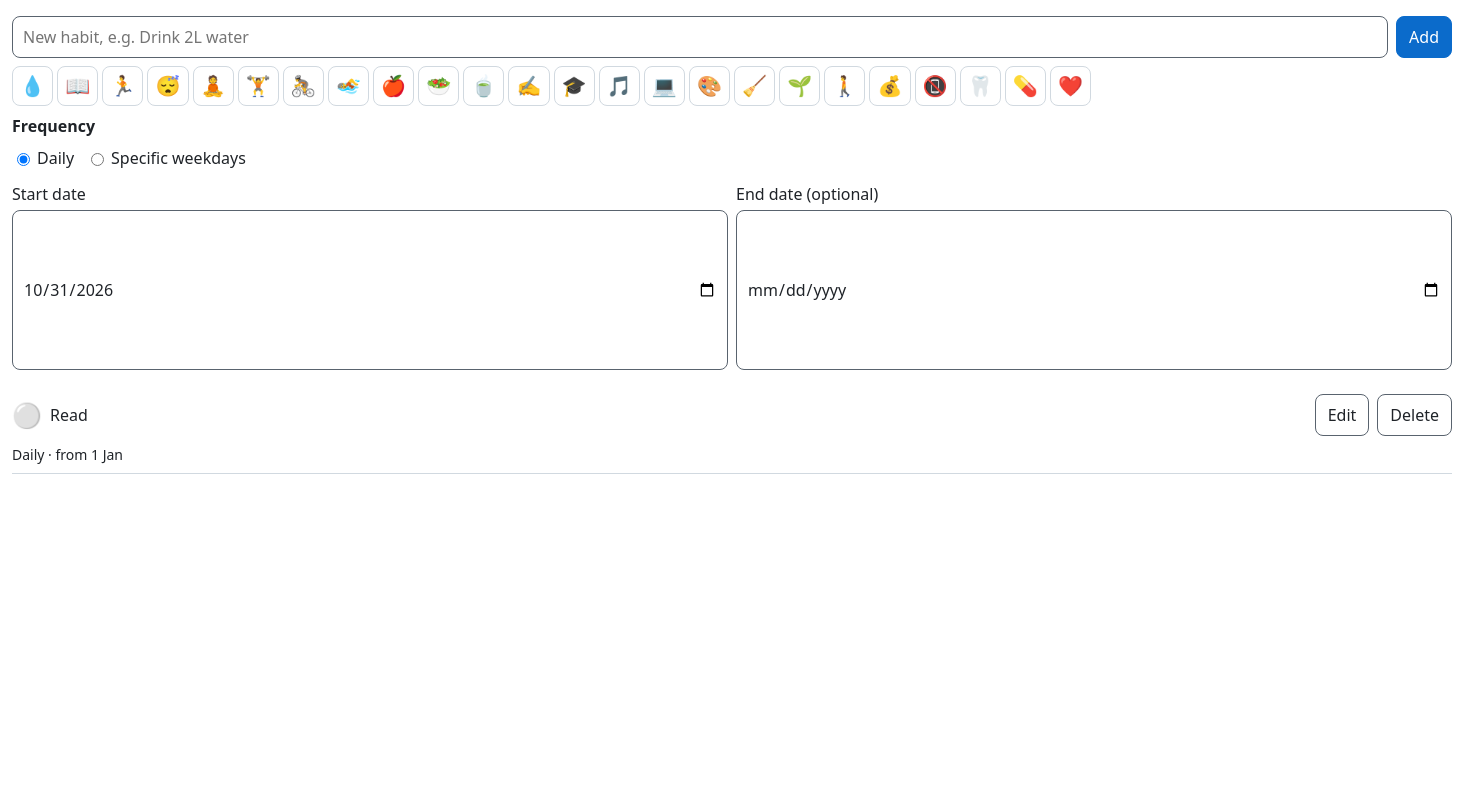
Scenario: HabitList › AC7 (#1): saving with the same name (case or spacing) closes with no error
Step 1. Click the button with aria-label "Edit Read" → (1342, 415), box [1315,394,1369,436]
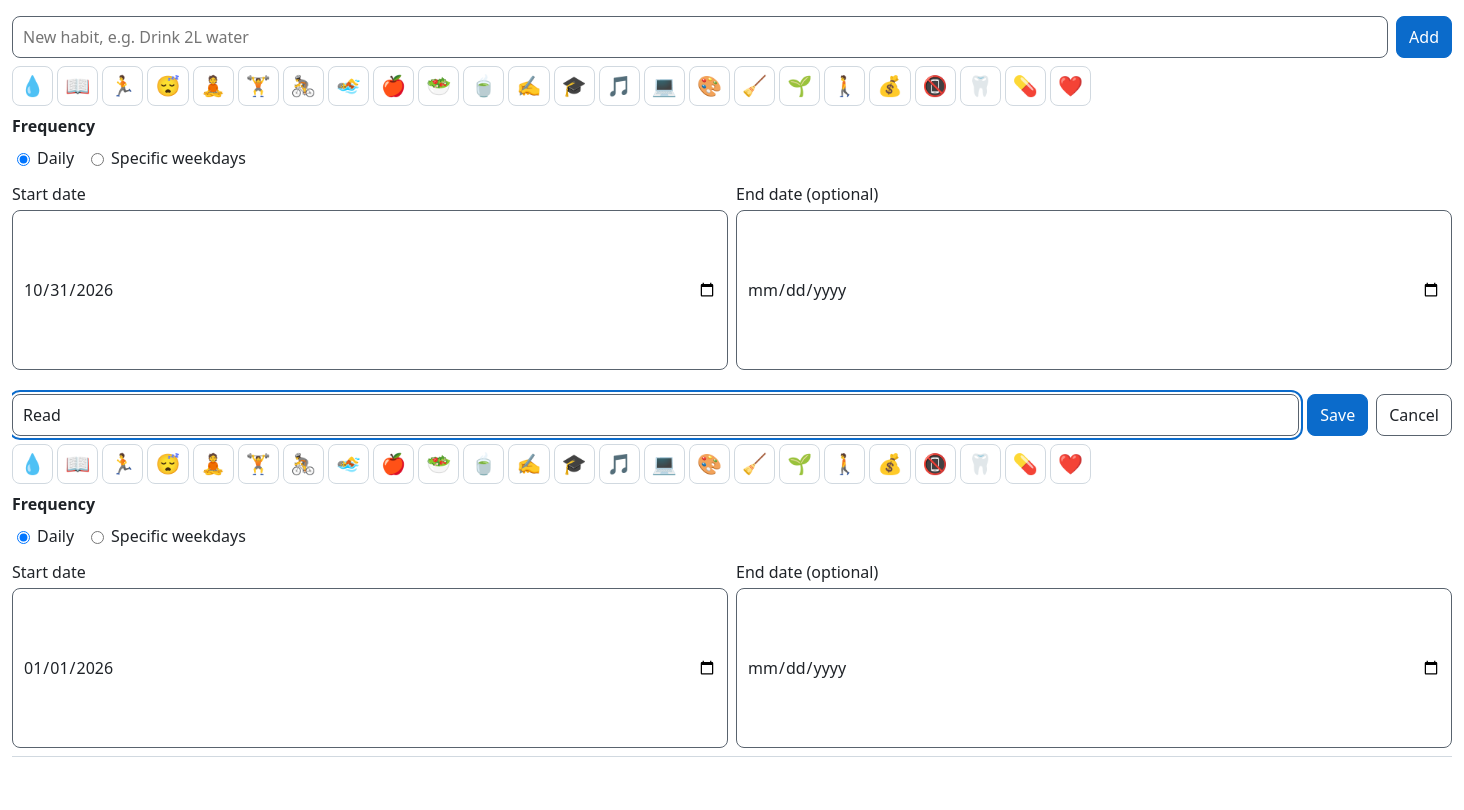
Step 2. Replace the text in the field named "Name for Read" with "  READ " → (656, 415), box [12,394,1299,436]
Then press Enter
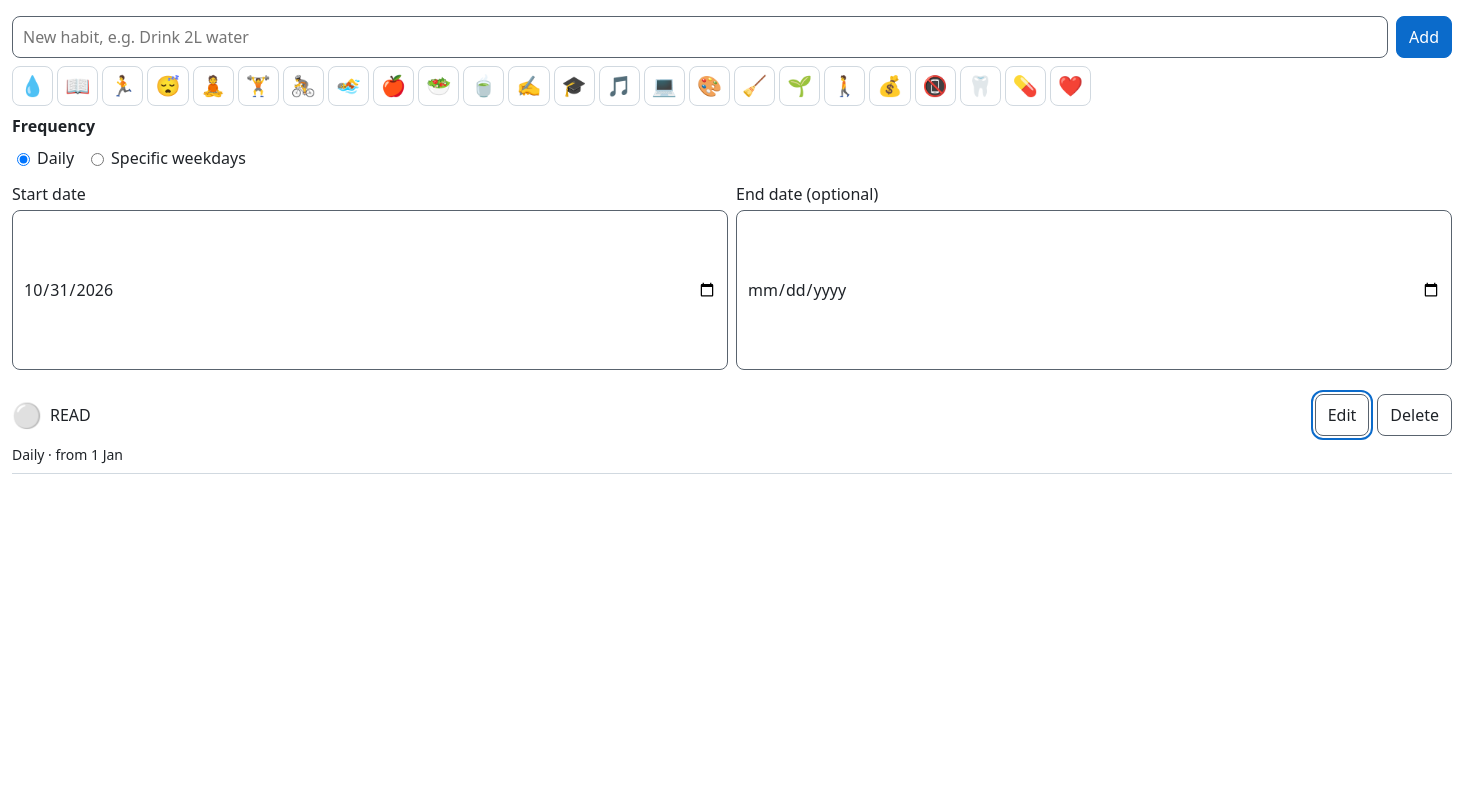
Expected: the text "READ" is shown, [50,404,91,426]
